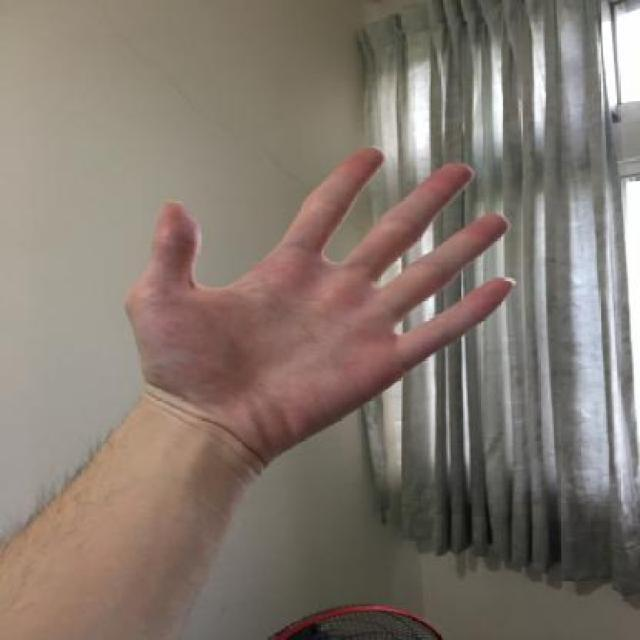bare_hand: (117, 132, 531, 488)
